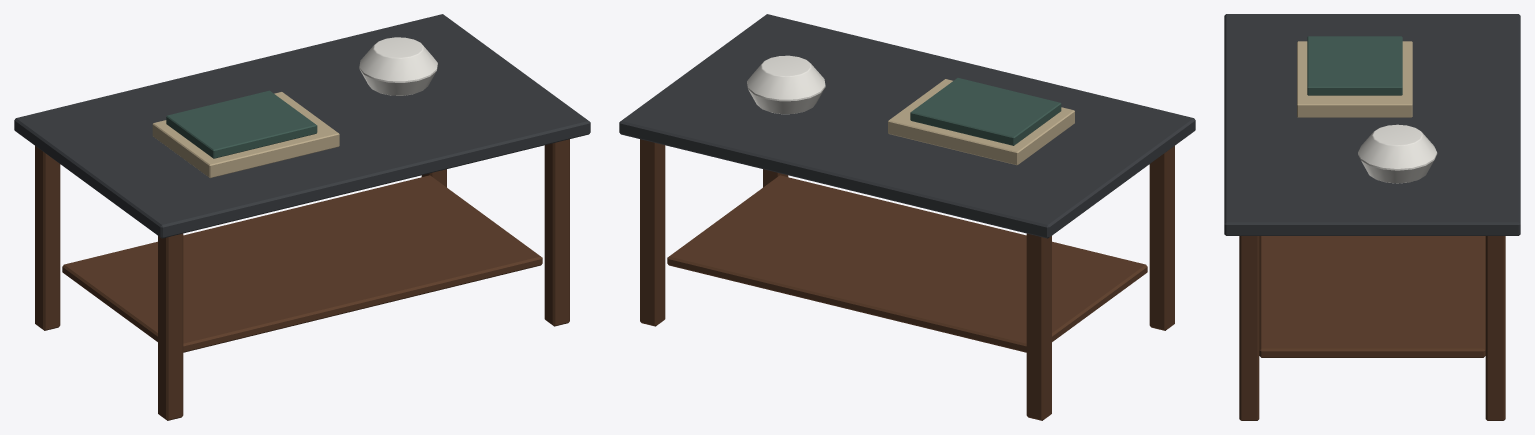
The model's file is prop_coffee_table_w100.glb.
3 views of the same model, side by side, from view 1: azimuth 30°, elevation 25°; view 2: azimuth 150°, elevation 25°; view 3: azimuth 270°, elevation 25° (orthographic).
Visible parts, largest first — view 1: Table; view 2: Table; view 3: Table.
Boxes of the visible parts, <box> form: Table: <box>14,14,590,420</box>; Table: <box>619,14,1195,420</box>; Table: <box>1224,14,1520,420</box>.
Size of what is drawn, in the model's own units: 0.99 by 0.53 by 0.59.
